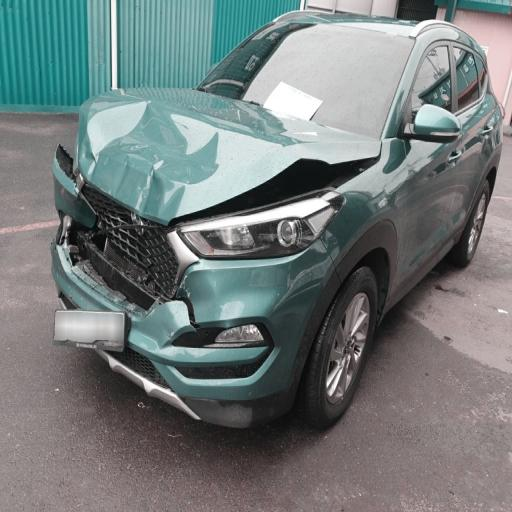broken: (35, 118, 355, 408)
dent: (107, 96, 239, 206)
